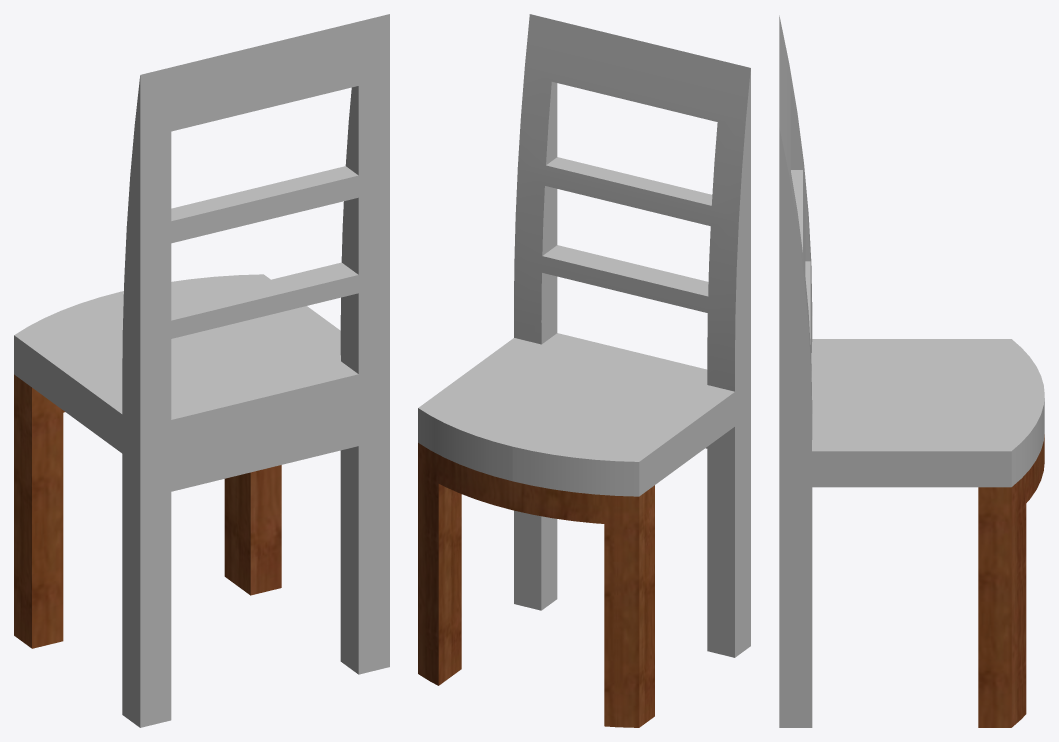
The model's file is chair25.dae.
The picture shows the model from 3 angles, left to right: view 1: azimuth 30°, elevation 25°; view 2: azimuth 150°, elevation 25°; view 3: azimuth 270°, elevation 25°; orthographic projection. The views are drawn at different scales.
Visible parts, largest first — view 1: group_0, Component_5; view 2: group_0, Component_5; view 3: group_0, Component_5.
Boxes of the visible parts, x1,y1,x2,y2 form: group_0: [14, 14, 389, 727]; Component_5: [14, 374, 281, 648]; group_0: [418, 14, 750, 657]; Component_5: [418, 443, 654, 727]; group_0: [779, 15, 1044, 727]; Component_5: [978, 434, 1044, 727].
Size of the model in its own units: 15.75 by 15.75 by 39.37.
